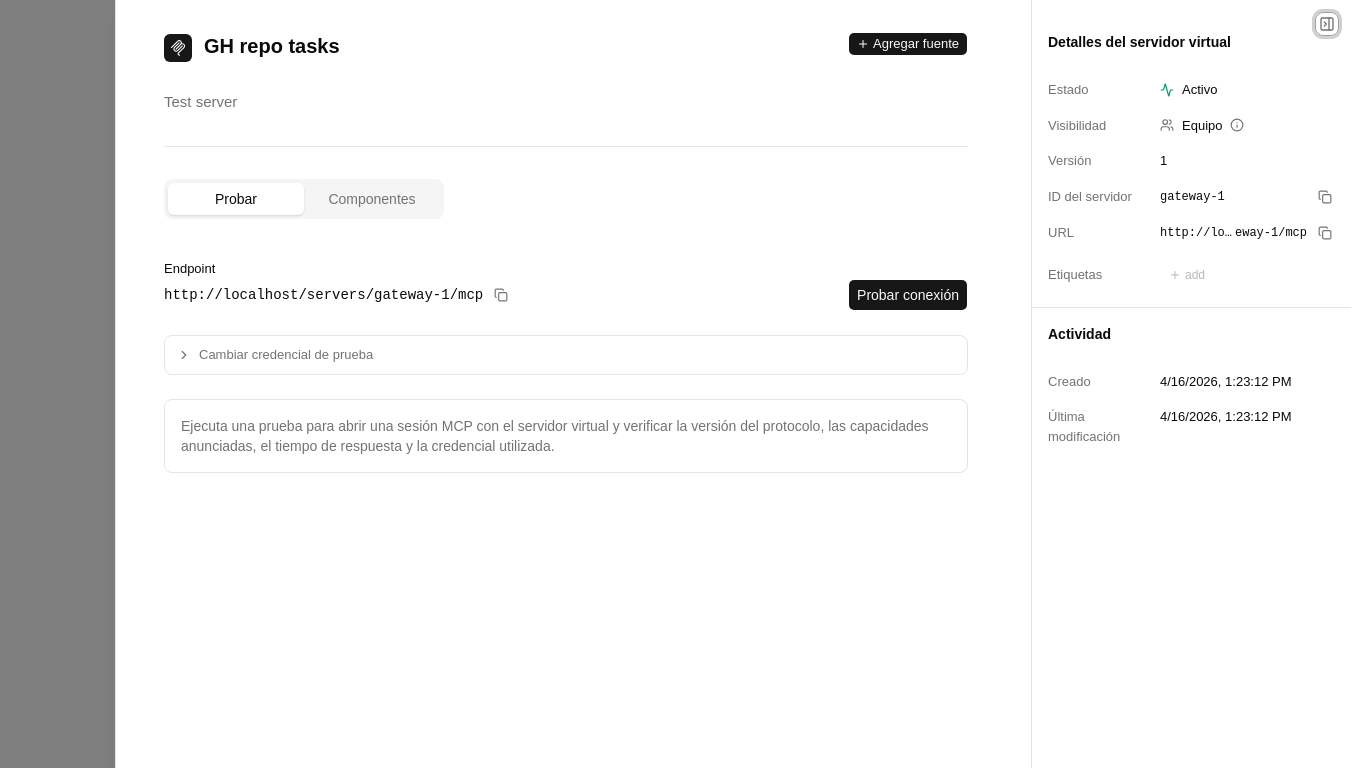
Test: VirtualServerDetailsPanel render variants › localizes the components loading state
What coordinates should you click on to do the following:
click the tab "Componentes"
I would click on:
 (372, 199)
Its box is left=304, top=183, right=440, bottom=215.
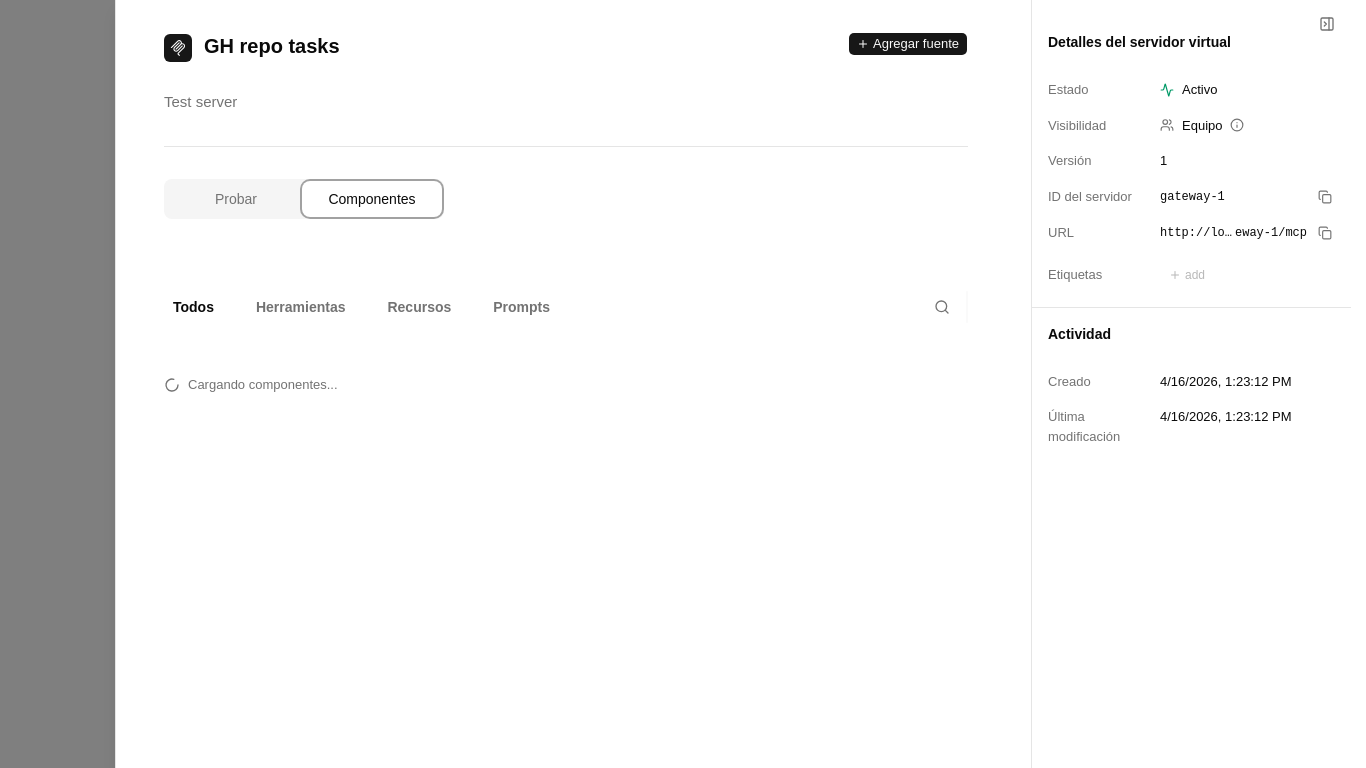
Result: the text "Cargando componentes..." is shown at left=188, top=375, right=338, bottom=394
